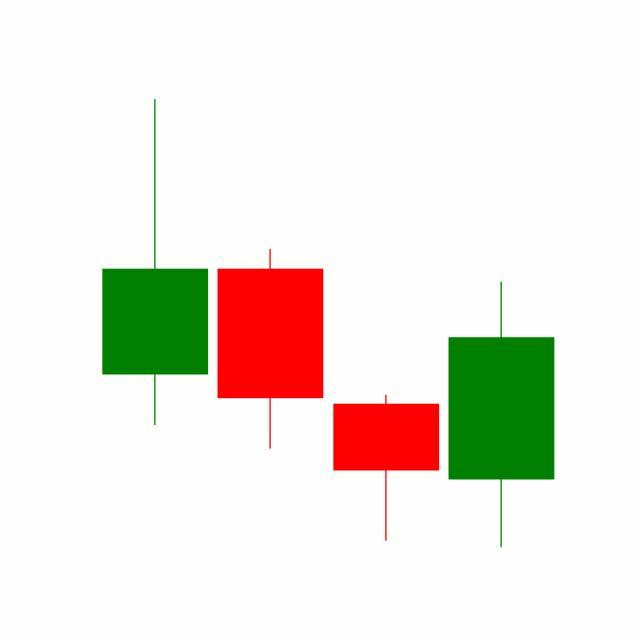Morning Star: (211, 245, 555, 549)
